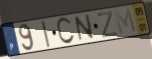9: (17, 23, 36, 52)
C: (55, 17, 76, 47)
I: (40, 20, 52, 49)
M: (113, 6, 138, 36)
N: (73, 13, 96, 43)
Z: (96, 10, 119, 40)
